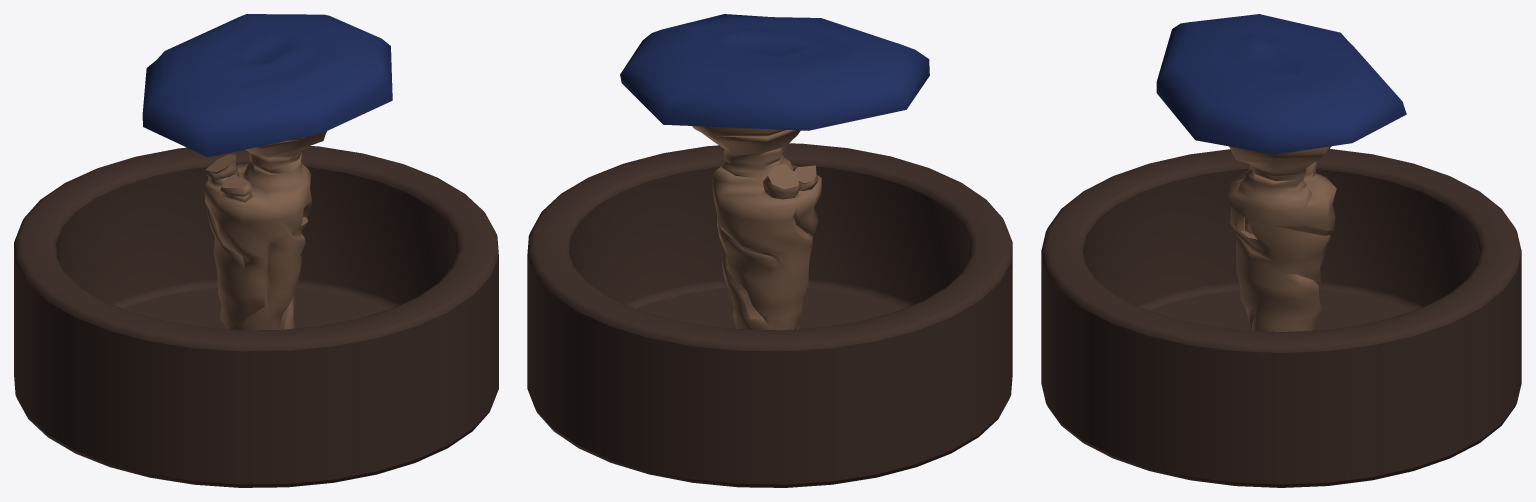
The model's file is env_fungiTowerTexture.fbx.
3 renders of one model, left to right at view 1: azimuth 30°, elevation 25°; view 2: azimuth 150°, elevation 25°; view 3: azimuth 270°, elevation 25°, orthographic.
Visible parts, largest first — view 1: obj.torre.001; view 2: obj.torre.001; view 3: obj.torre.001.
Part boxes in pixels (x1,y1,x2,y2): obj.torre.001: [14, 14, 498, 487]; obj.torre.001: [527, 14, 1012, 487]; obj.torre.001: [1041, 14, 1521, 487].
Bounding box in the file's own units: 11098 × 8577 × 11098.
